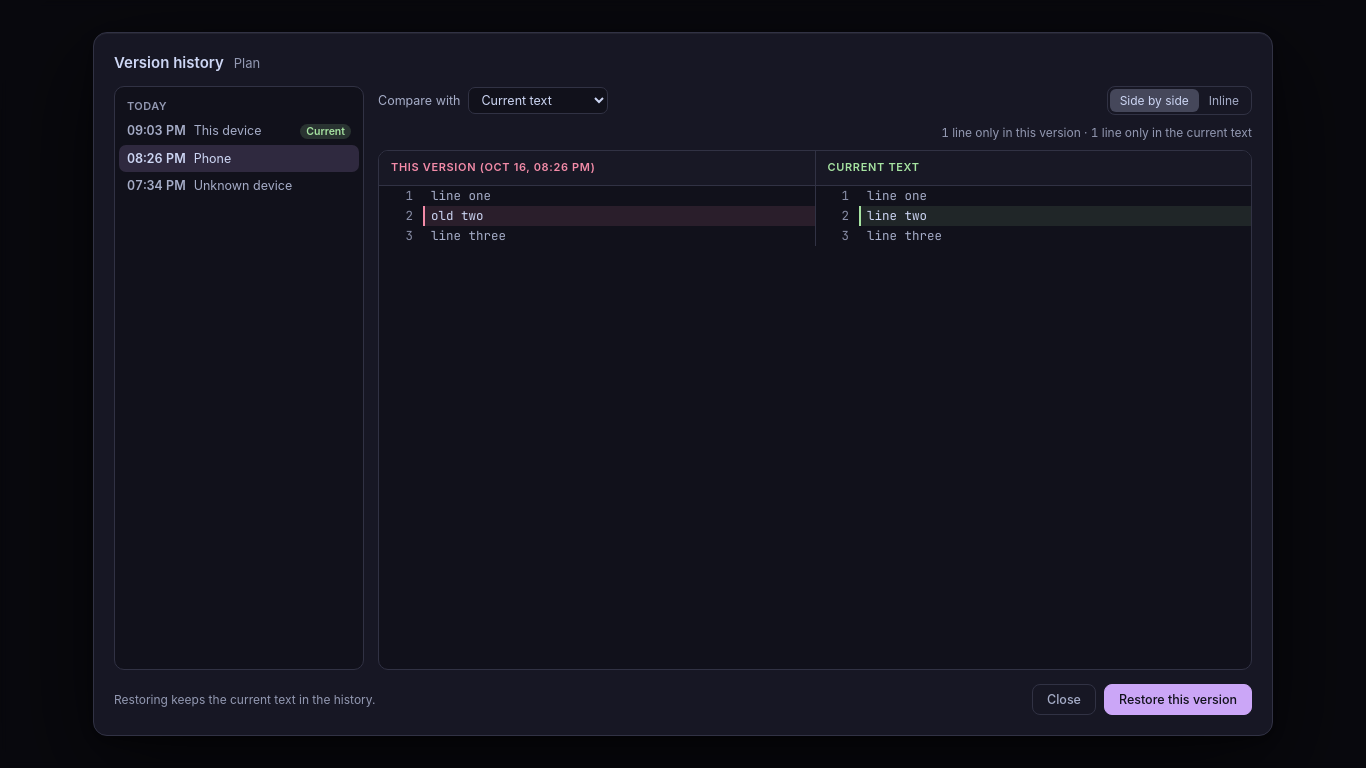
Test case: VersionHistoryDialog › says when a version matches the current text
This screenshot has width=1366, height=768.
expect the table named "Differences" is shown: met, box [379, 151, 1251, 246]
What coordinates should you click on to do the following:
click the option "09:03 PM This device Current"
I would click on:
 (239, 131)
Its box is [127, 123, 351, 139].
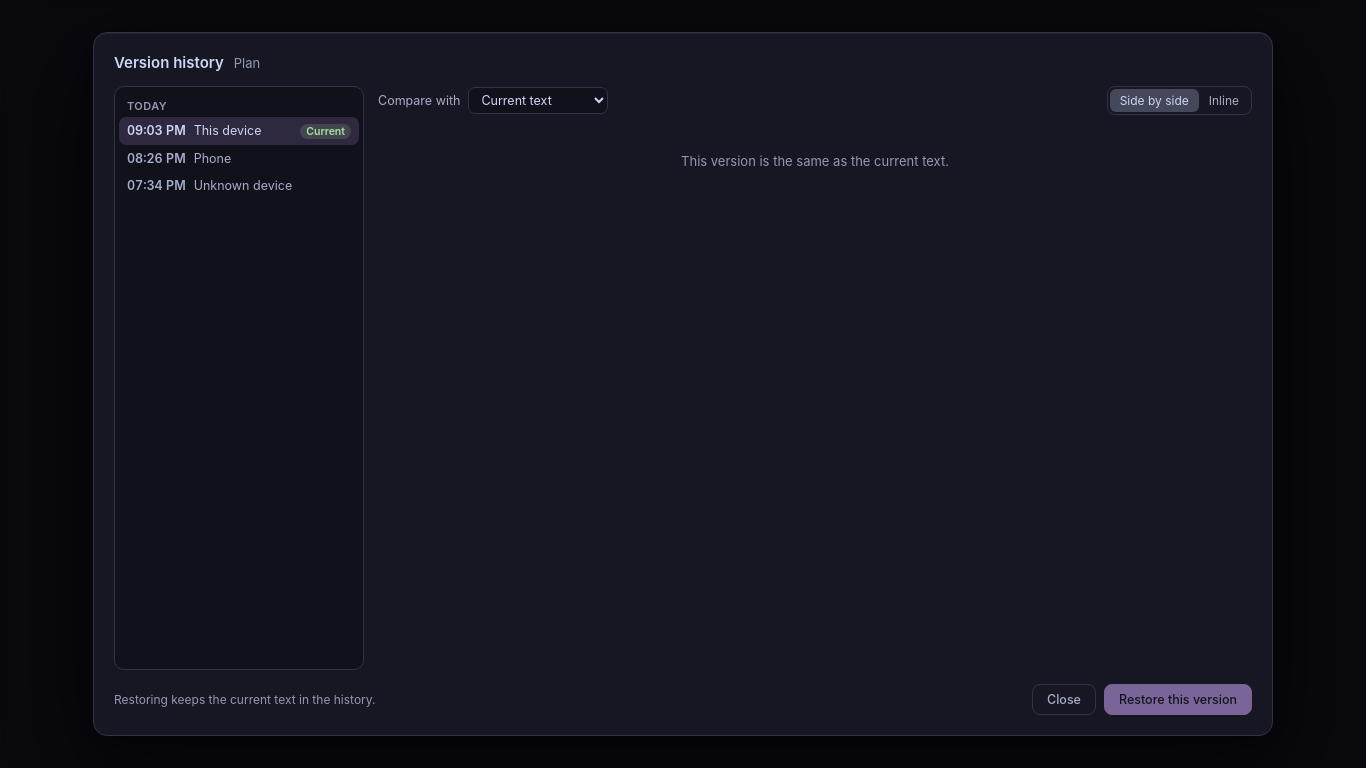
expect the text "This version is the same as the current text." is shown: met, box [681, 153, 949, 169]
expect the button "Restore this version" is disabled: met, box [1104, 684, 1252, 715]
